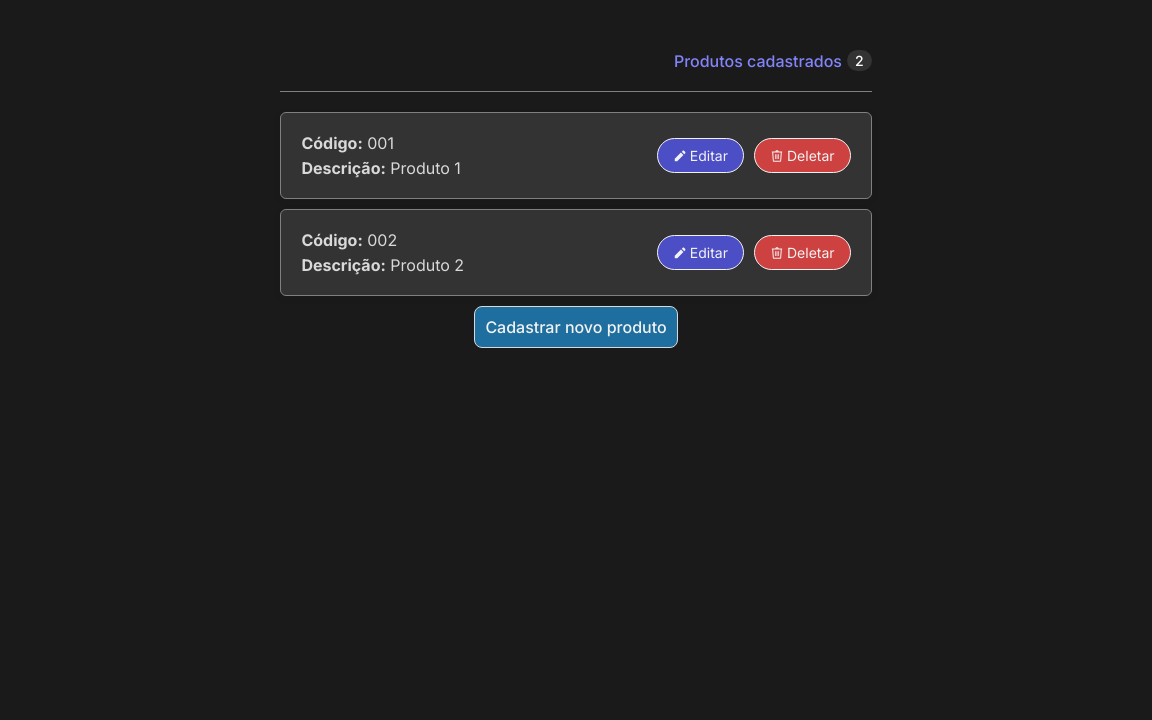
Test: Home › should close the modal when clicking in the close button or outside modal
This screenshot has width=1152, height=720.
Click the button "Cadastrar novo produto": (576, 327) [474,306,678,348]
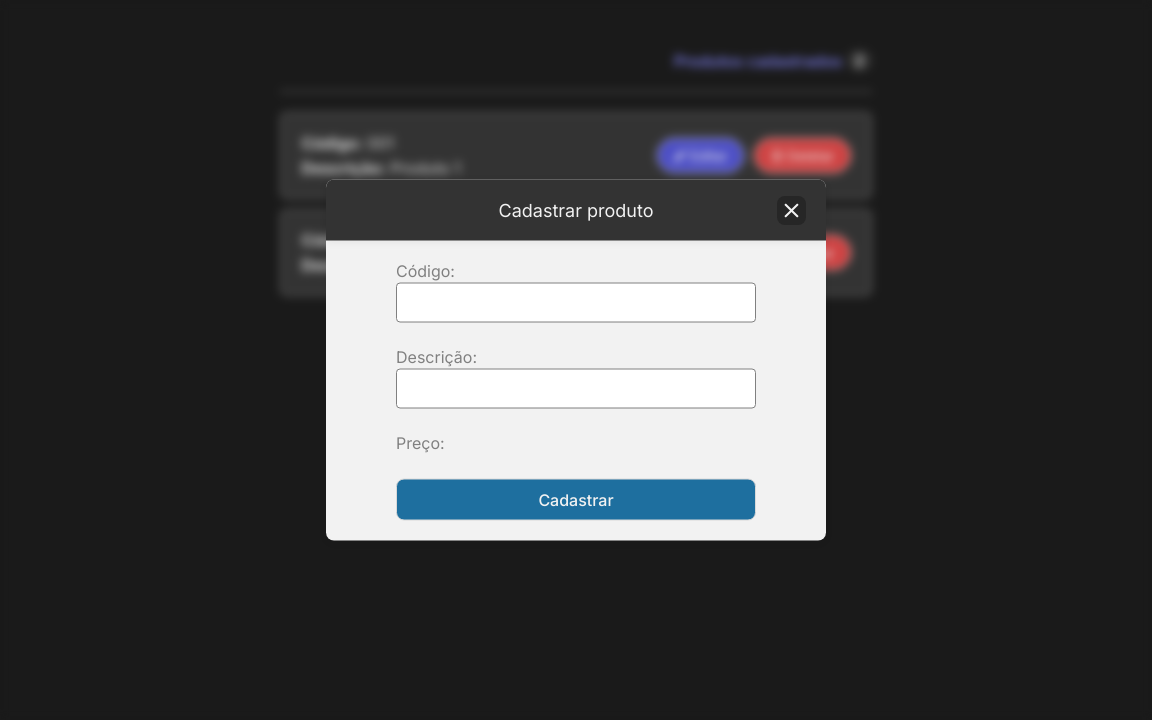
Click the button with test id "close-modal": (792, 210) [777,196,806,224]
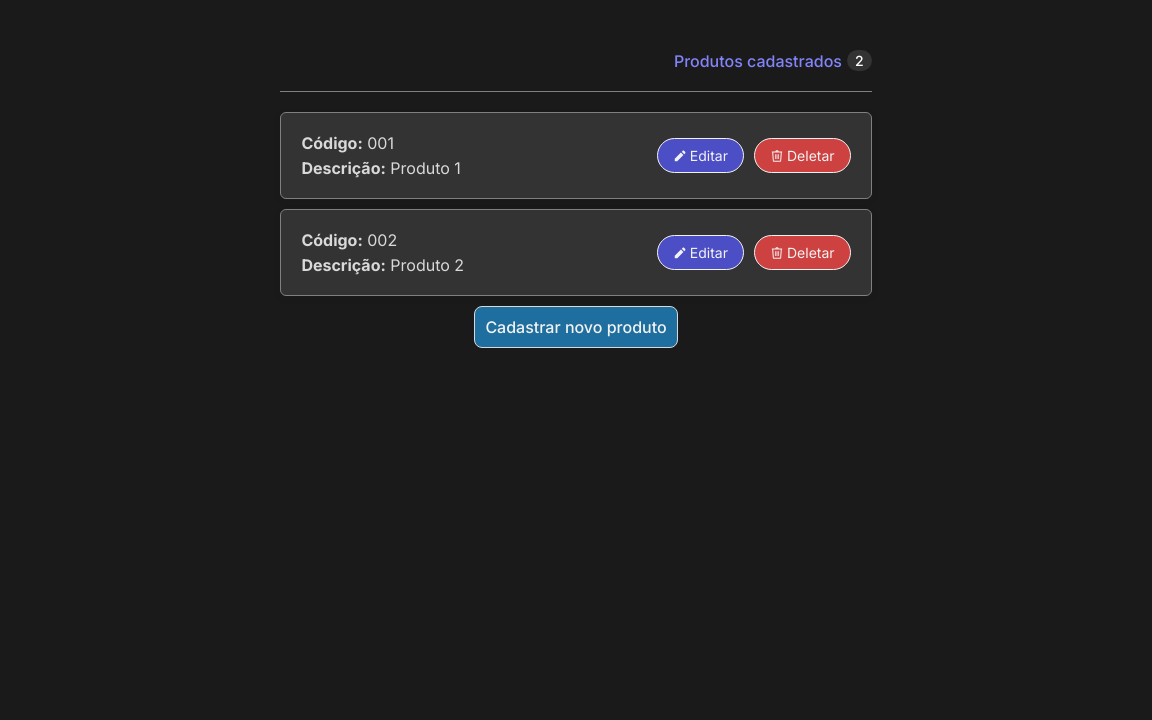
Expected: the heading "Cadastrar produto" is gone
Click the button "Cadastrar novo produto": (576, 327) [474,306,678,348]
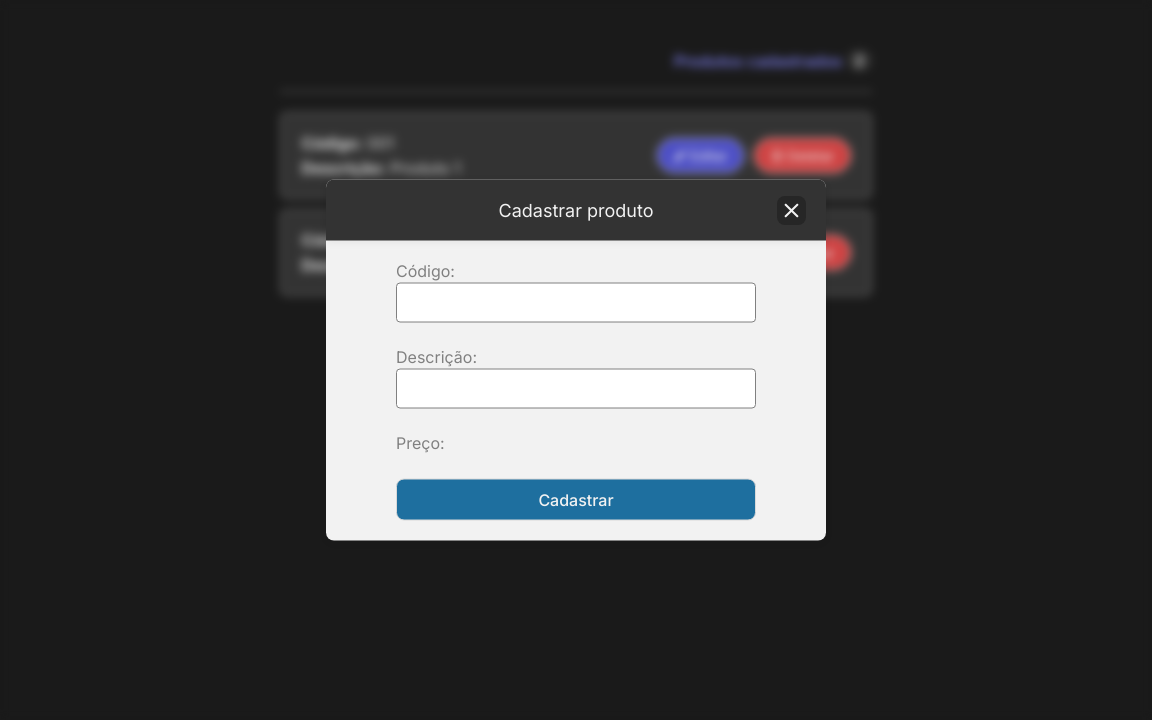
Click the element showing "Cadastrar produto Código: Descrição: Preço: Cadastrar": (576, 360) [326,180,826,540]
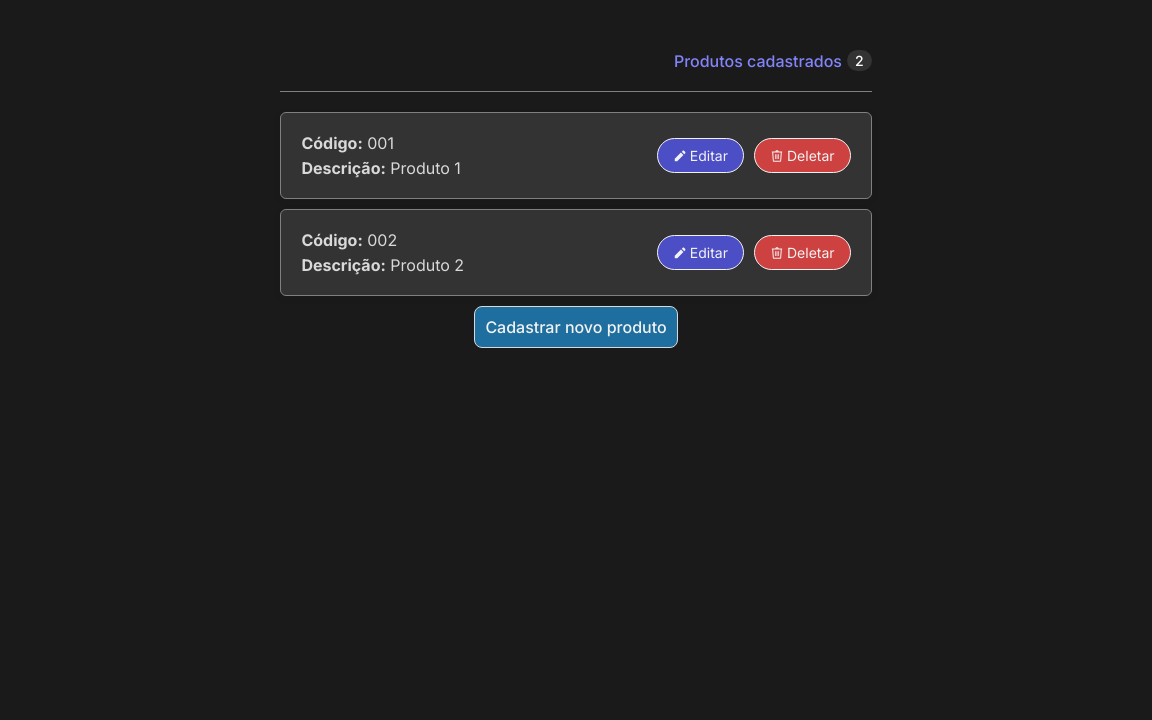
Expected: the heading "Cadastrar produto" is gone
